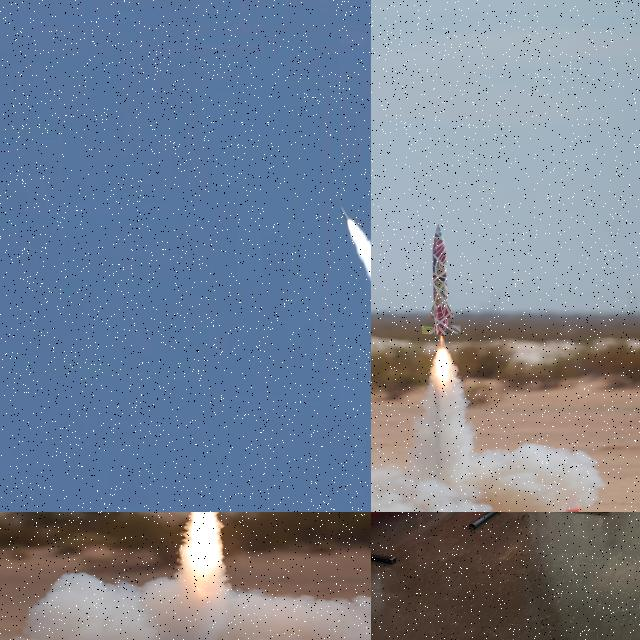Rocket: (421, 224, 462, 338), (339, 205, 350, 222)
